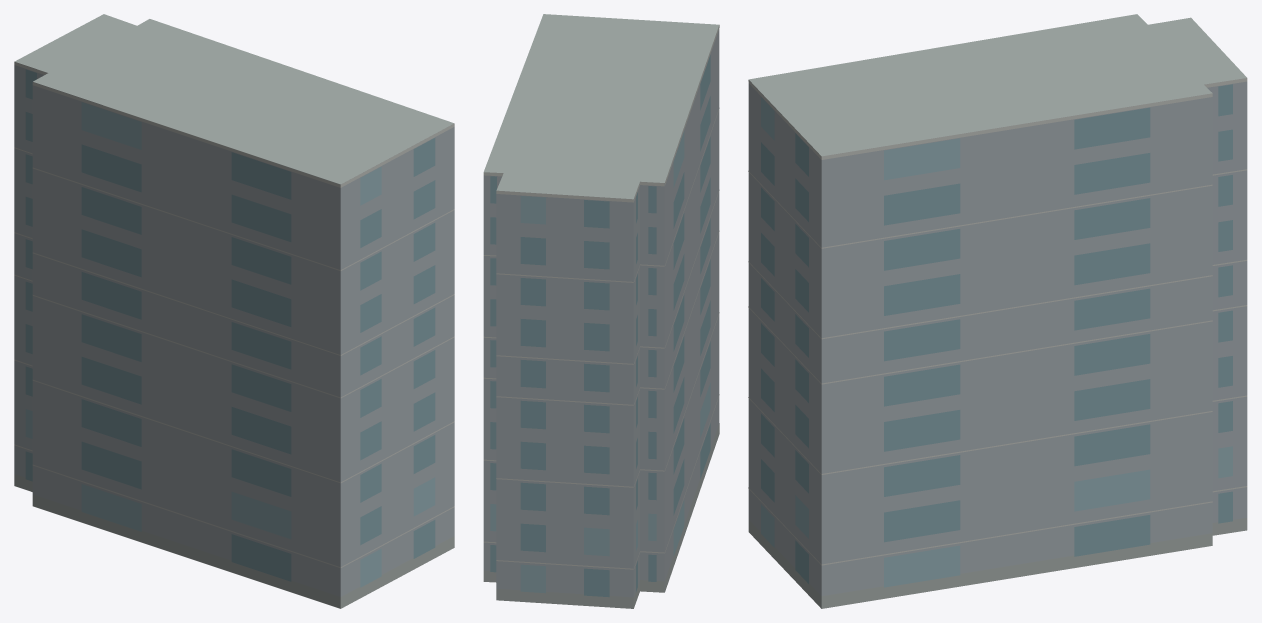
Rendered from survey-upis-32747962.glb.
3 views of the same model, side by side, from view 1: azimuth 30°, elevation 25°; view 2: azimuth 150°, elevation 25°; view 3: azimuth 270°, elevation 25° (orthographic). The views are drawn at different scales.
Parts seen in each view (by area): view 1: survey-upis-32747962.tmp; view 2: survey-upis-32747962.tmp; view 3: survey-upis-32747962.tmp.
Part boxes in pixels (x1=…): survey-upis-32747962.tmp: x1=14, y1=14, x2=454, y2=608; survey-upis-32747962.tmp: x1=483, y1=14, x2=719, y2=608; survey-upis-32747962.tmp: x1=748, y1=14, x2=1247, y2=608.
Bounding box in the file's own units: 20.62 × 30.5 × 30.5.
